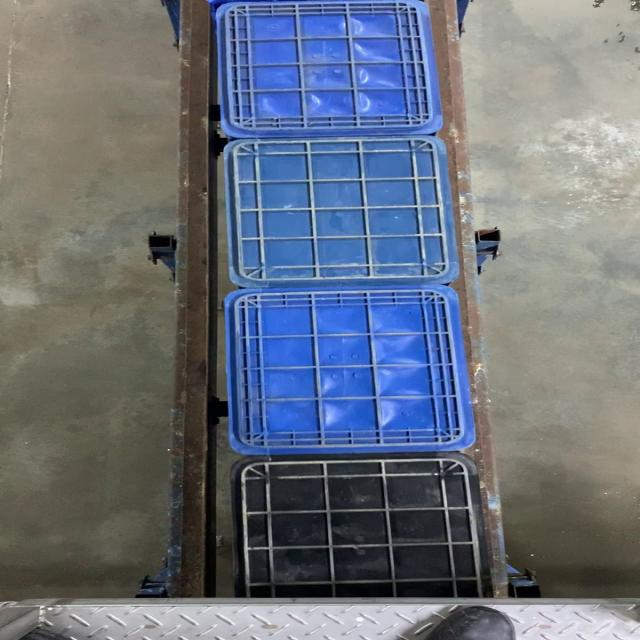Box: (221, 291, 479, 457), (221, 140, 471, 290), (214, 0, 446, 138)
